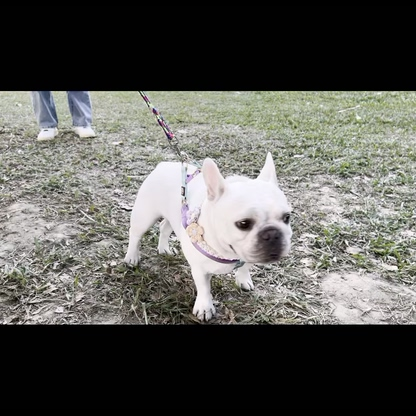bulldog: (121, 150, 295, 322)
